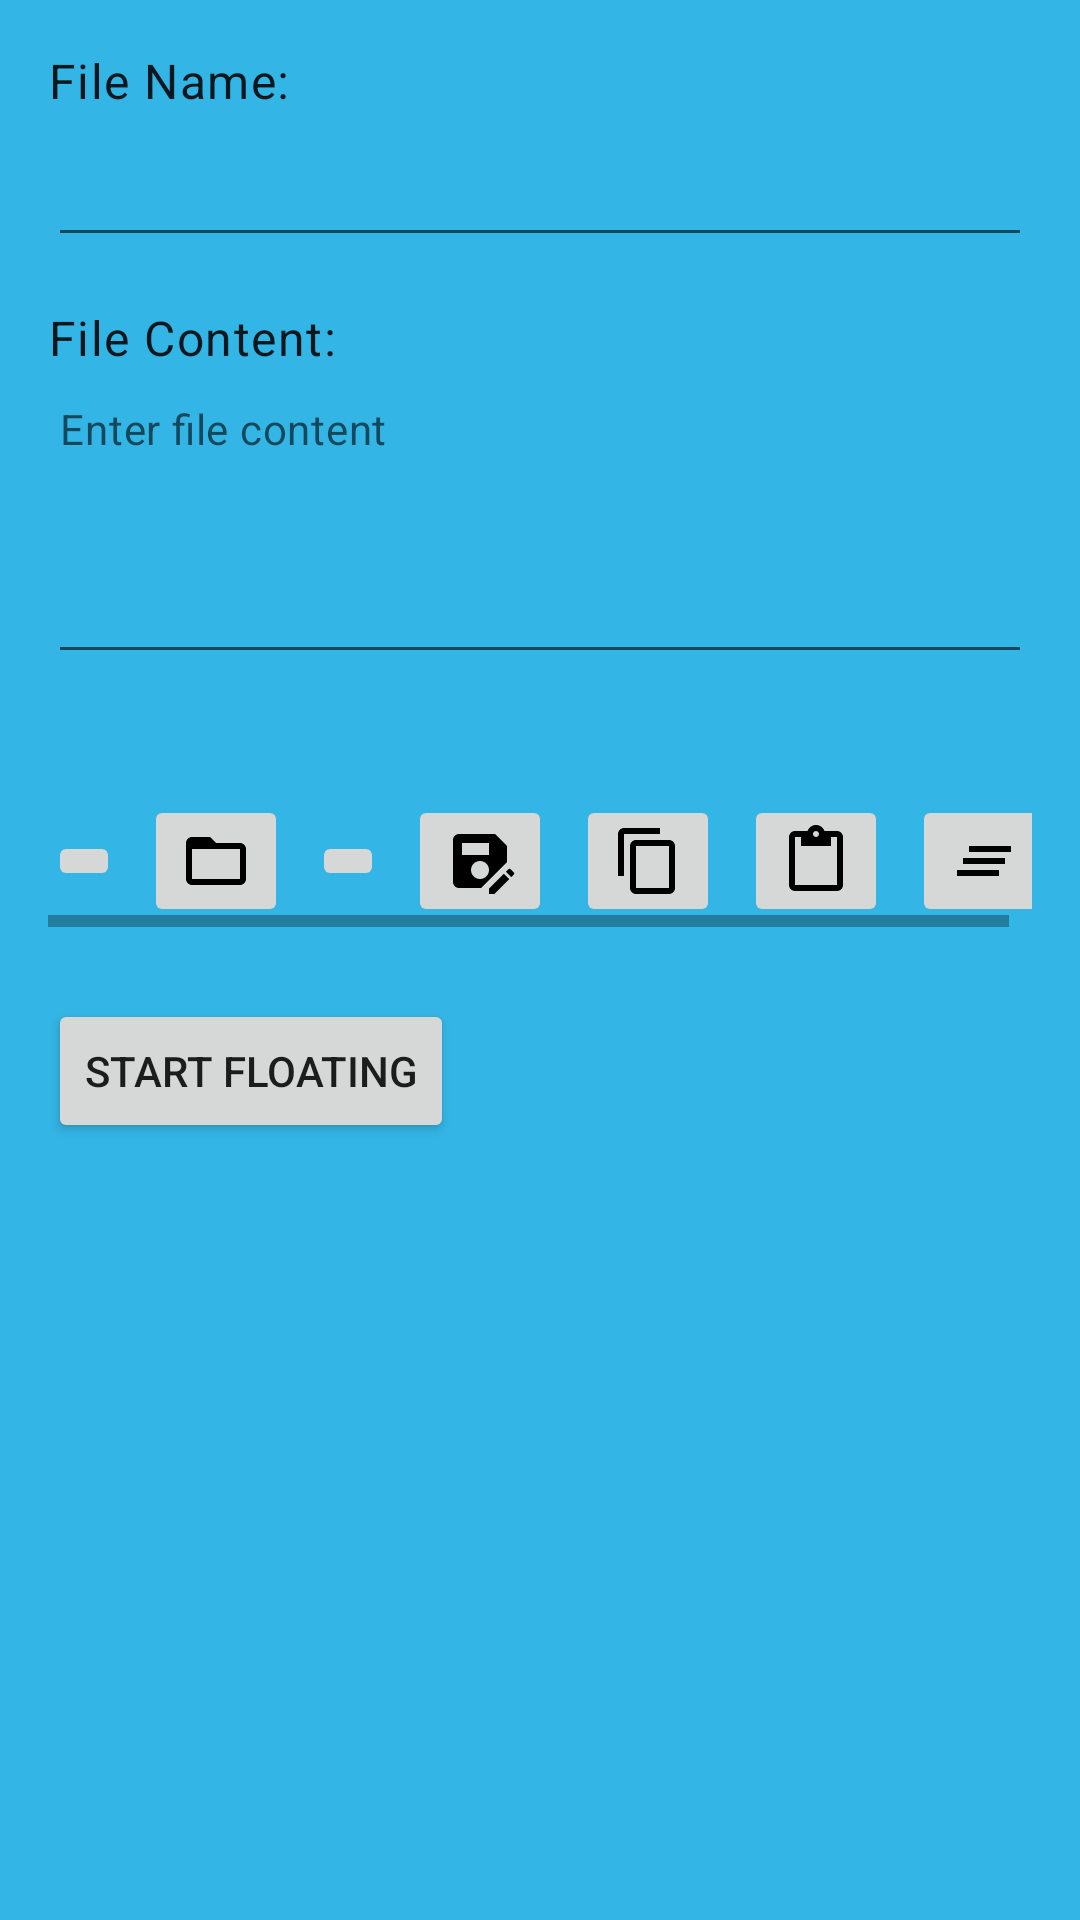

Icon bounding boxes for this 1080x1920 phone screenshot, format {"x1": x1, "y1": y1, "x2": x2, "y2": y2}:
content paste: {"x1": 756, "y1": 813, "x2": 876, "y2": 909}
folder open: {"x1": 156, "y1": 813, "x2": 276, "y2": 909}
save as: {"x1": 420, "y1": 813, "x2": 540, "y2": 909}
